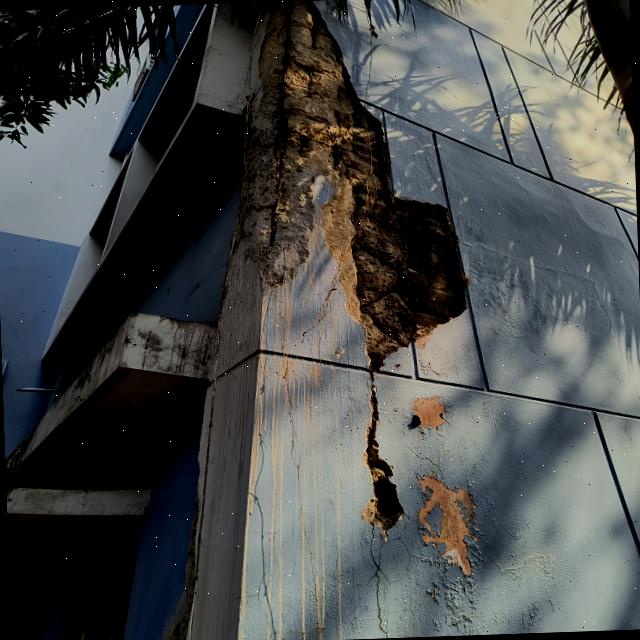crack: (202, 45, 254, 62), (199, 90, 237, 104)
peeling: (362, 383, 403, 536), (418, 476, 475, 575), (413, 395, 445, 429)
spalling: (236, 0, 465, 370)
